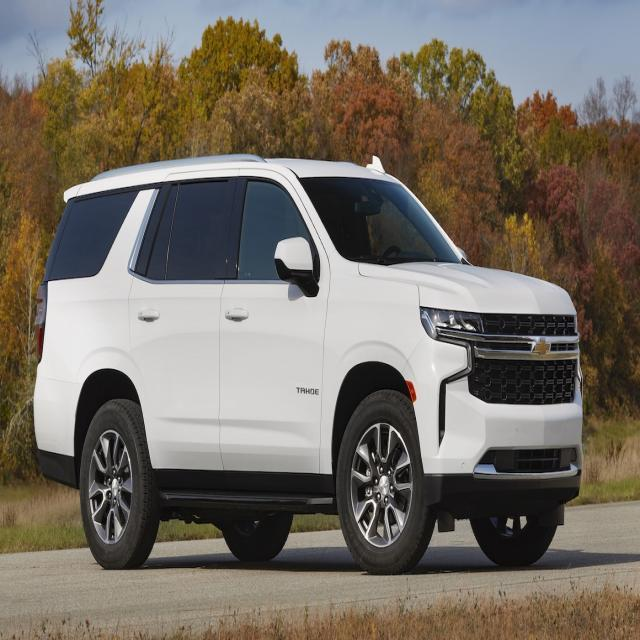sedan: (32, 150, 584, 575)
